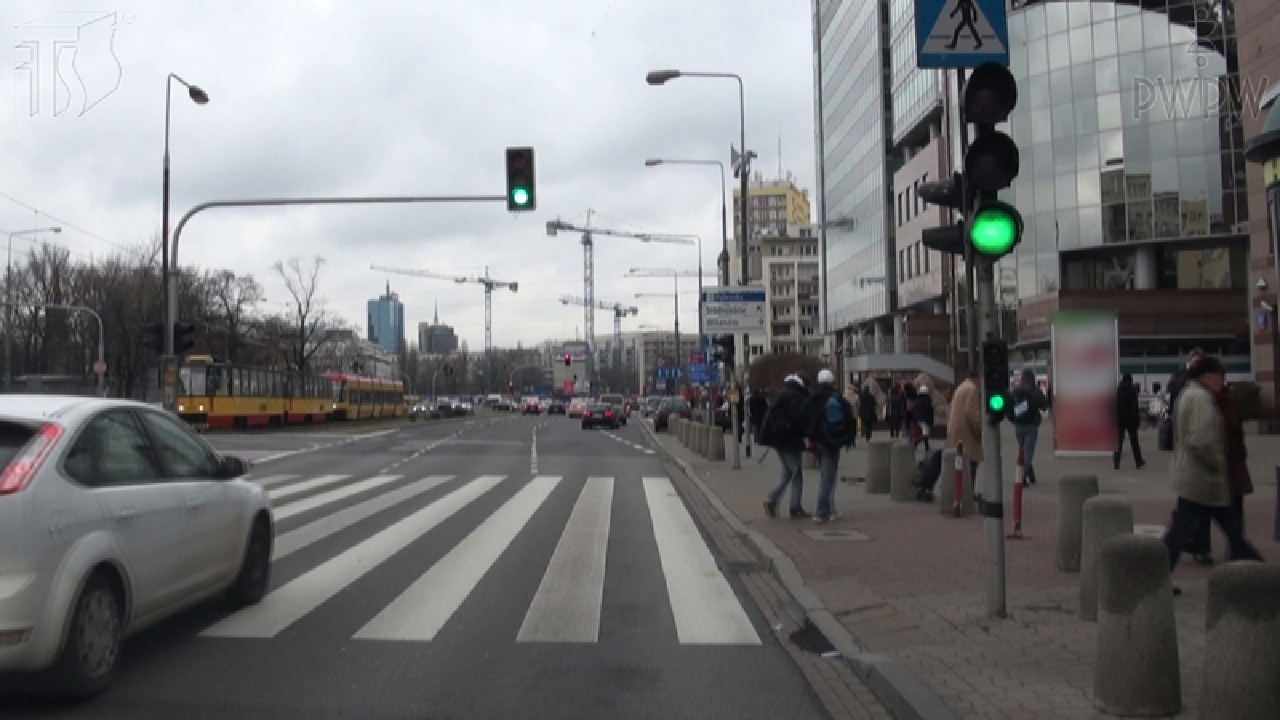D6: (914, 1, 1010, 67)
Green: (964, 66, 1024, 259), (983, 340, 1007, 415), (511, 152, 528, 207)
